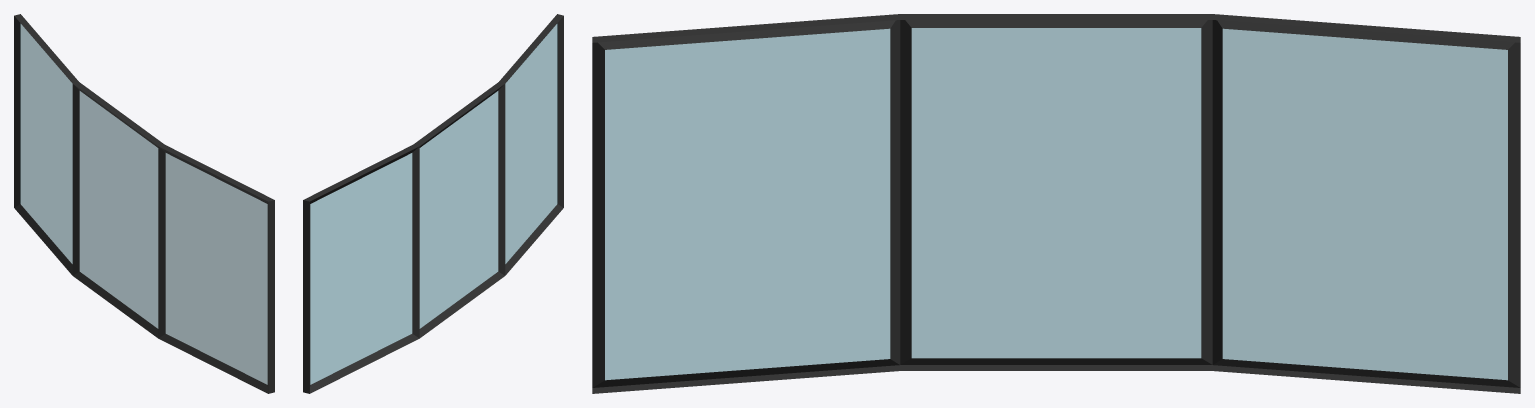
File: ventanalD.DAE
3 renders of one model, left to right at view 1: azimuth 30°, elevation 25°; view 2: azimuth 150°, elevation 25°; view 3: azimuth 270°, elevation 25°, orthographic. The views are drawn at different scales.
Visible parts, largest first — view 1: ventanalD; view 2: ventanalD; view 3: ventanalD.
Boxes of the visible parts, x1,y1,x2,y2 form: ventanalD: [14, 14, 274, 393]; ventanalD: [303, 14, 563, 393]; ventanalD: [592, 14, 1520, 393].
Bounding box in the file's own units: 0.4763 × 6.47 × 2.7.
